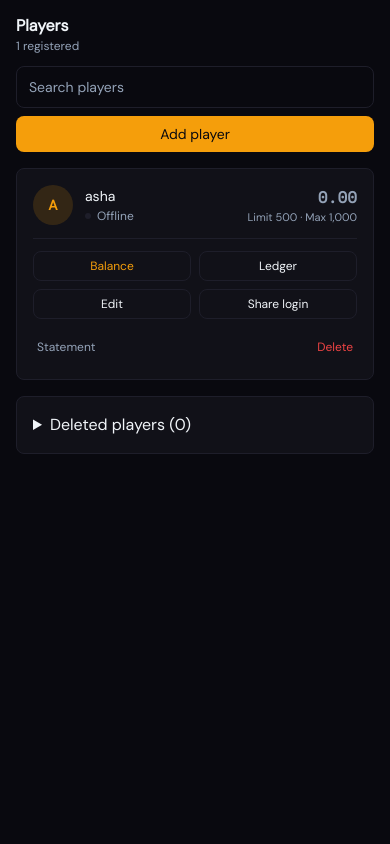
Test: AdminPlayersView share login link › creates and exposes a short-lived link with the token only in the URL fragment
This screenshot has width=390, height=844.
Click the button "Share login". click: (278, 304)
box: x1=199 y1=288 x2=357 y2=318
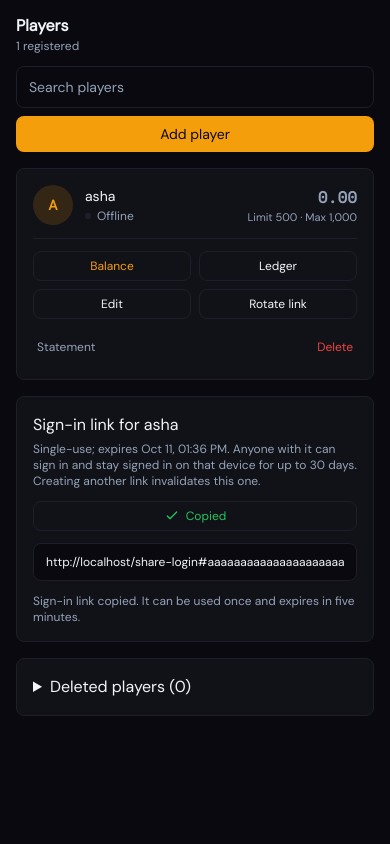
Expected: the text "Single-use" is shown, x1=33 y1=440 x2=357 y2=488
Expected: the text "30 days" is shown, x1=33 y1=440 x2=357 y2=488
Expected: the button with aria-label "Link copied" reads "Copied", x1=33 y1=500 x2=357 y2=530
